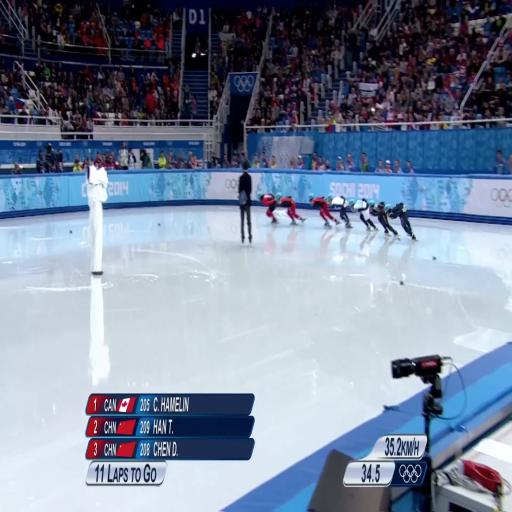Skater: (386, 203, 416, 240), (309, 194, 340, 227), (369, 202, 398, 235), (276, 193, 305, 224), (329, 196, 354, 228), (352, 199, 377, 230), (259, 194, 277, 223)
